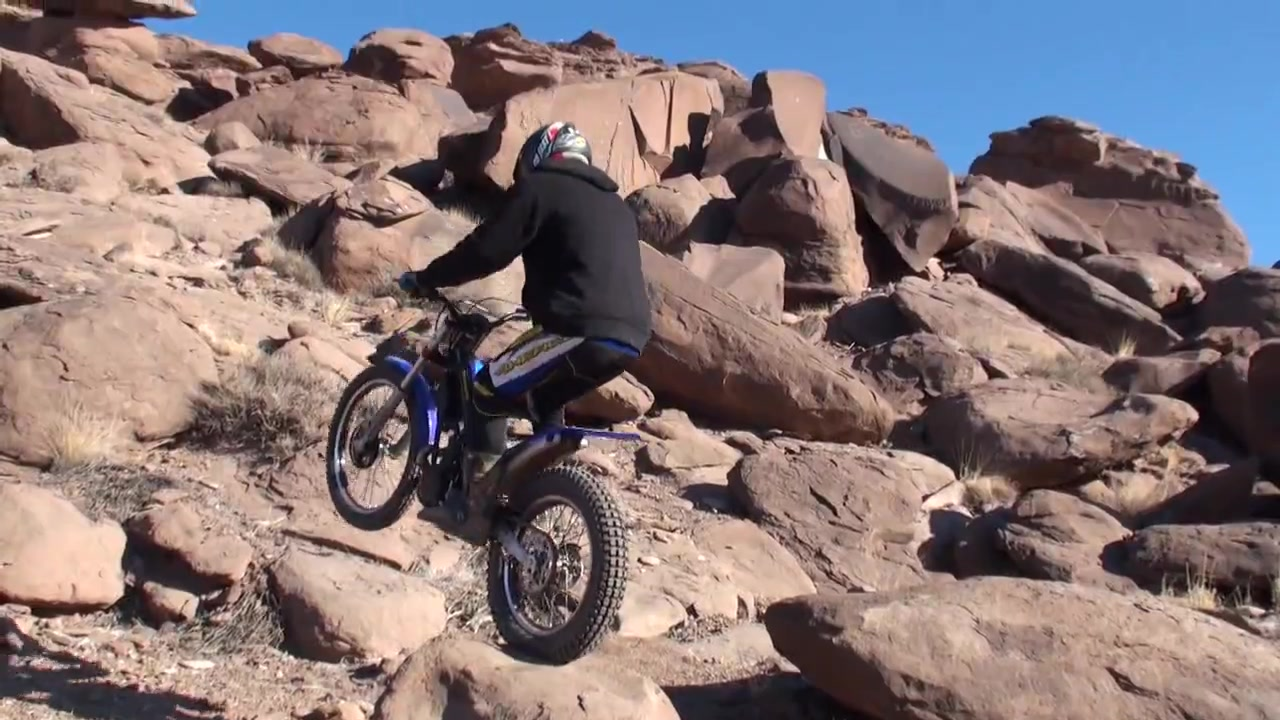motorbike: (324, 277, 647, 670)
